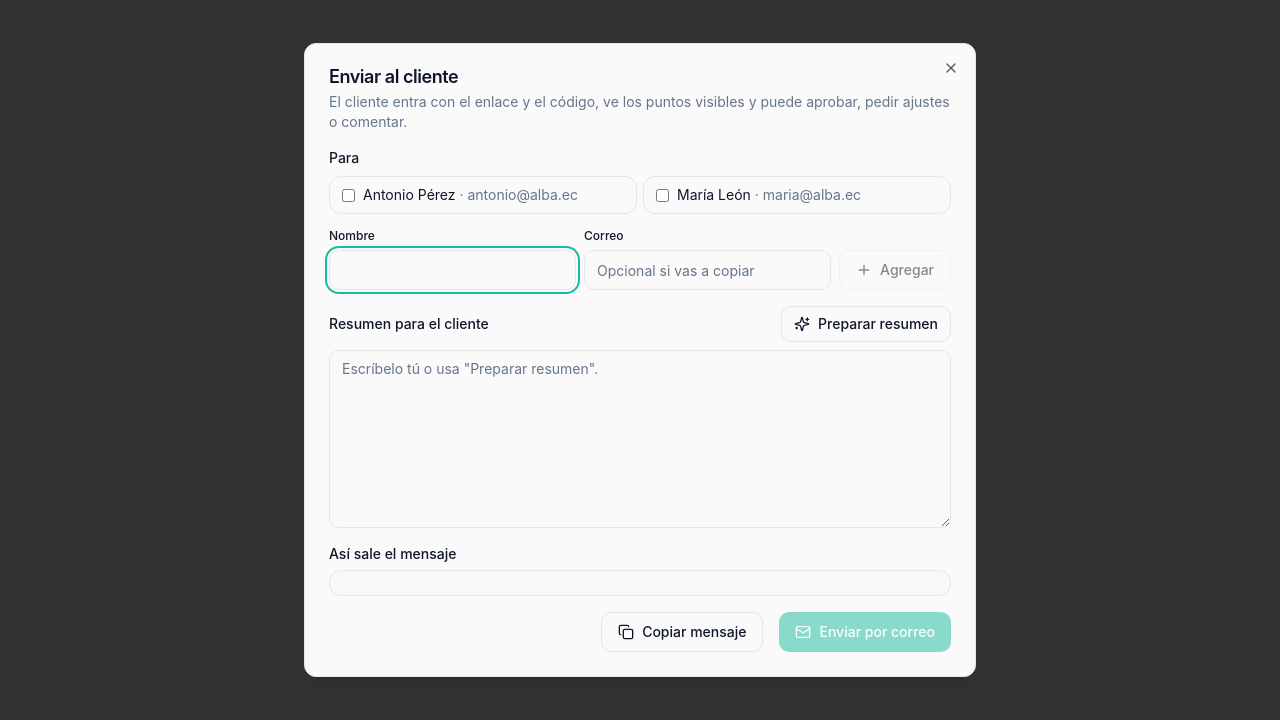
Test case: EnviarAlClienteDialog › no agrega un correo inválido
Expected: the checkbox named "Antonio Pérez (antonio@alba.ec)" is shown, x1=342 y1=188 x2=355 y2=202
Type "Luis" into the field labelled "Nombre".
click(452, 270); type("Luis")  # box x1=329 y1=250 x2=576 y2=290
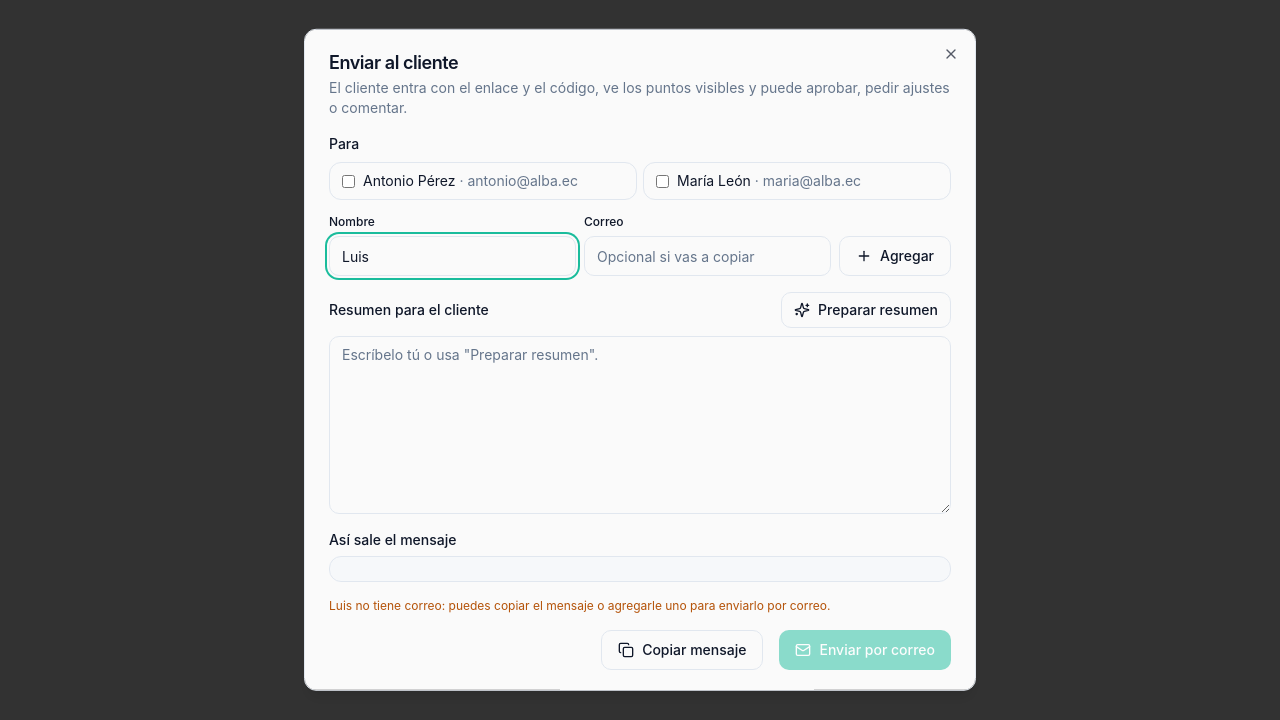
Type "luis" into the field labelled "Correo".
click(708, 256); type("luis")  # box x1=584 y1=236 x2=831 y2=276
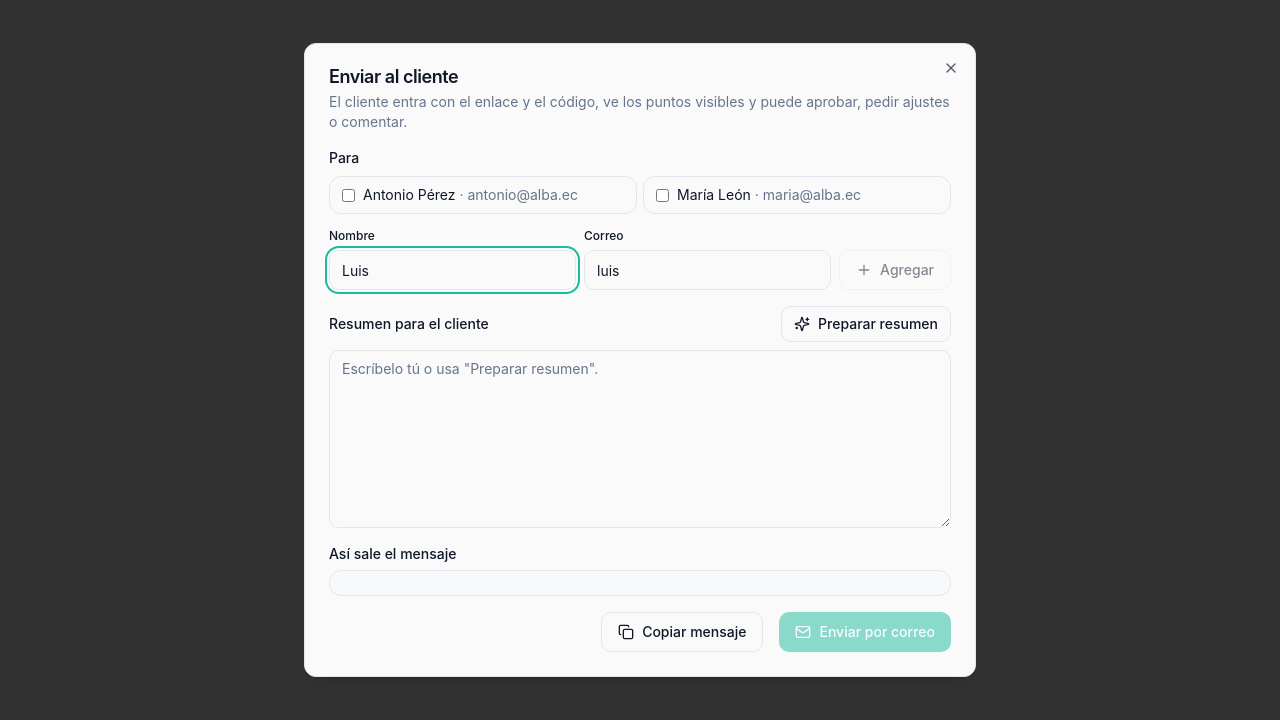
Now the button "Agregar" is disabled, box x1=839 y1=250 x2=951 y2=290
